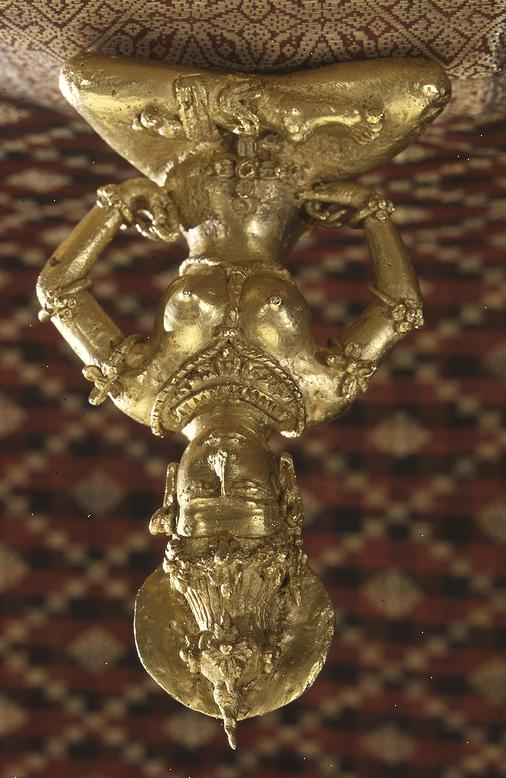golden_tara_of_agusan: (34, 43, 461, 748)
